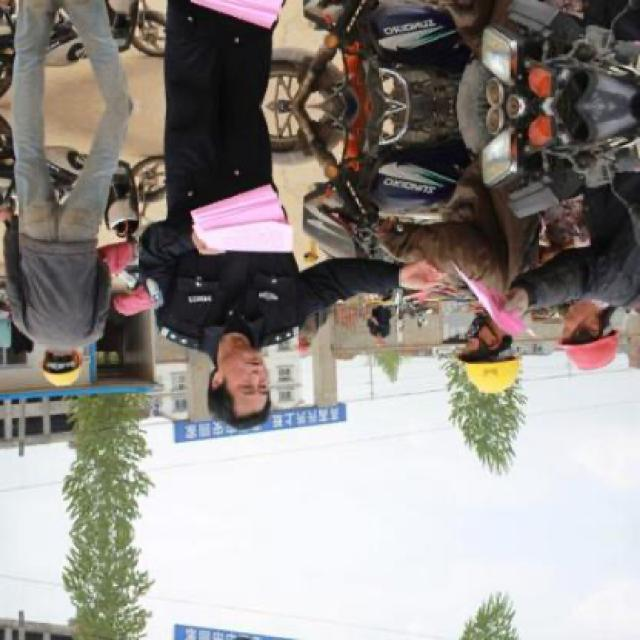con casco: (440, 315, 530, 406), (556, 303, 634, 385), (15, 340, 99, 406)
sin casco: (174, 335, 299, 427)
